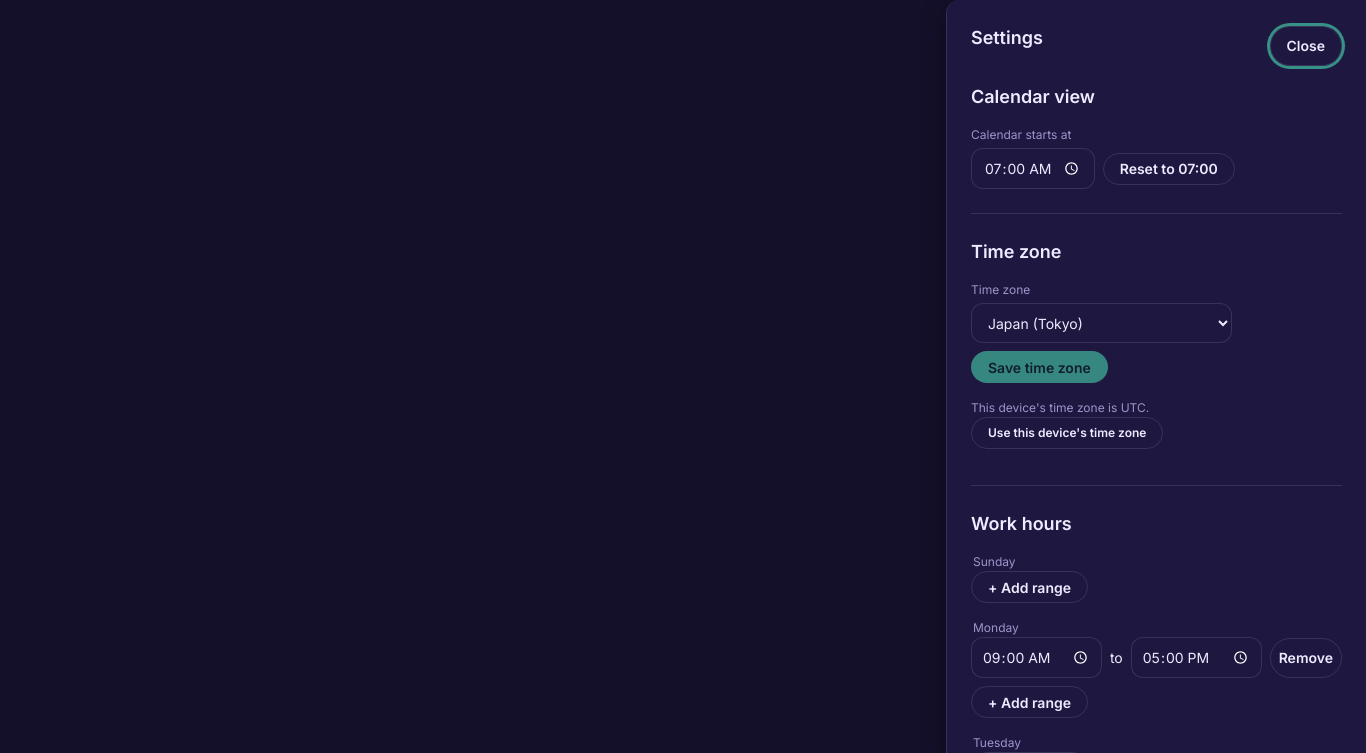
Test case: time zone field › "Use this device's time zone" fills the field
The image size is (1366, 753).
Click the button "Use this device's time zone" at (1067, 433), box [971,417,1163,449]
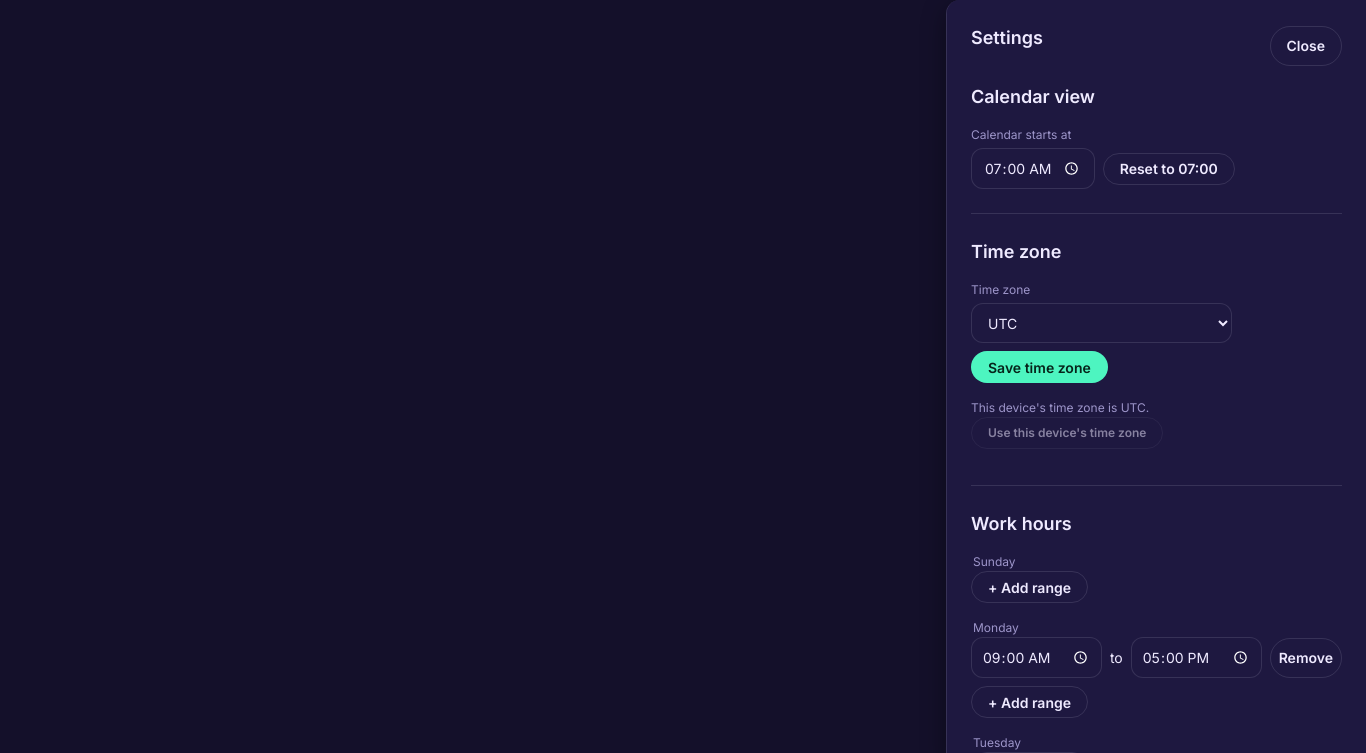
Check: the dropdown labelled "Time zone" shows "UTC", box [971,303,1232,343]
